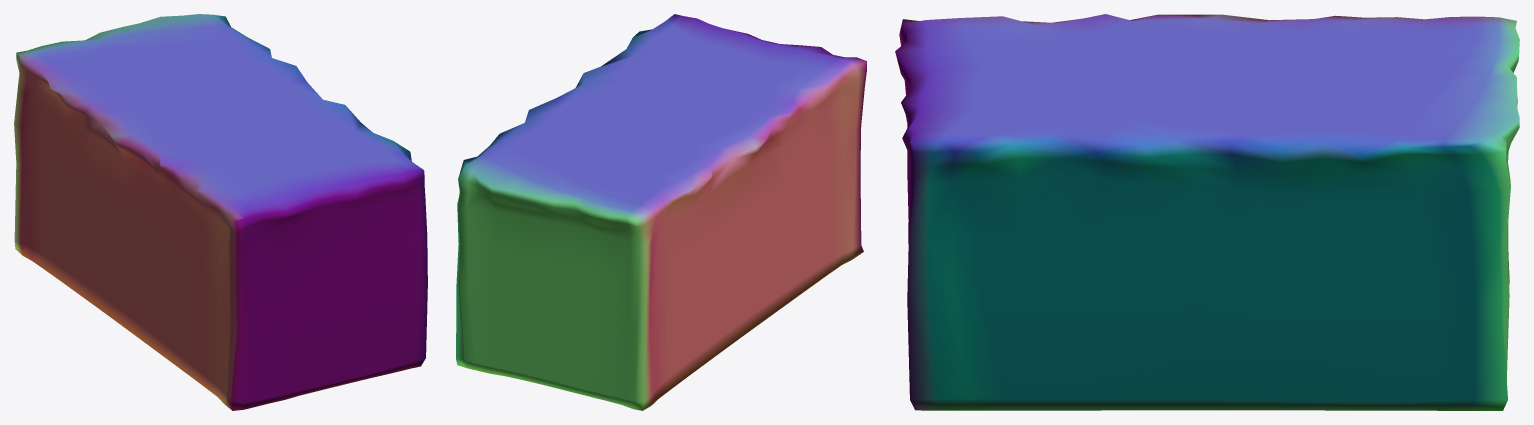
The model's file is bushcompleteafteryears 1.fbx.
The picture shows the model from 3 angles, left to right: view 1: azimuth 30°, elevation 25°; view 2: azimuth 150°, elevation 25°; view 3: azimuth 270°, elevation 25°; orthographic projection. The views are drawn at different scales.
Visible parts, largest first — view 1: pCube4; view 2: pCube4; view 3: pCube4.
Part boxes in pixels (box(x1,y1,x2,y2)): pCube4: box(14, 14, 427, 410); pCube4: box(456, 14, 866, 410); pCube4: box(895, 14, 1519, 410).
Size of the model in its own units: 1.1 by 1 by 2.1.
